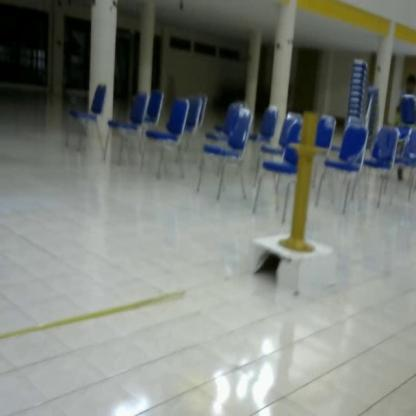pole: (281, 105, 328, 257)
